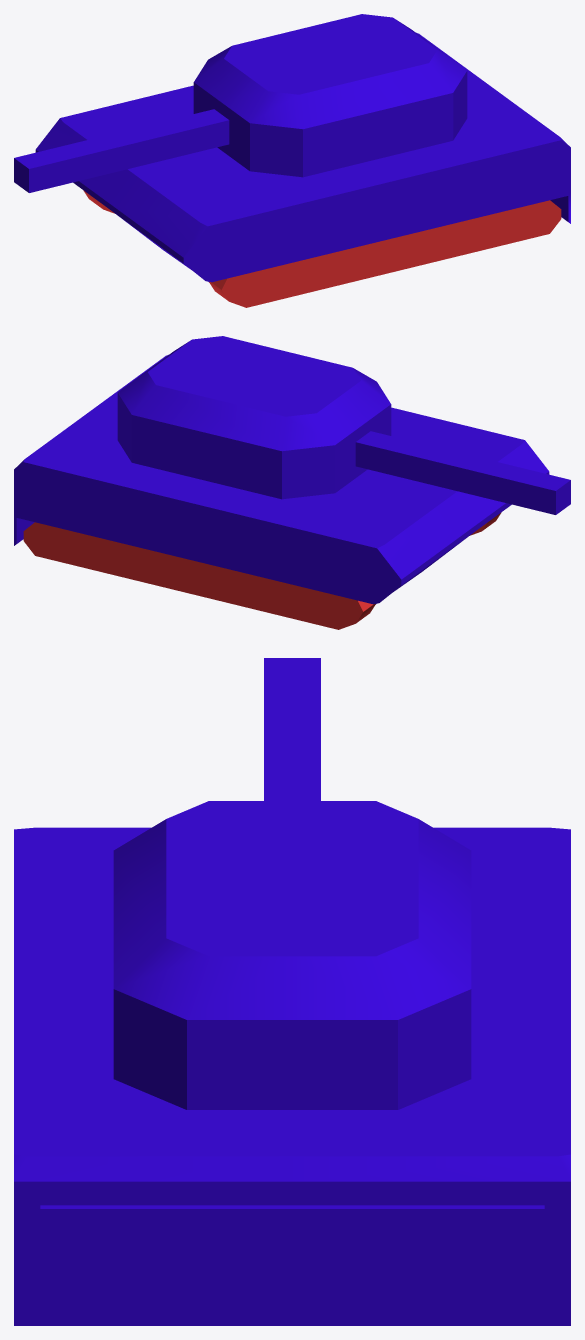
Rendered from Combat_Tank.fbx.
3 renders of one model, top to bottom at view 1: azimuth 30°, elevation 25°; view 2: azimuth 150°, elevation 25°; view 3: azimuth 270°, elevation 25°, orthographic. The views are drawn at different scales.
Parts seen in each view (by area): view 1: Box001; view 2: Box001; view 3: Box001.
Boxes of the visible parts, bbox=[...] form: Box001: bbox=[14, 14, 570, 307]; Box001: bbox=[14, 336, 570, 629]; Box001: bbox=[14, 658, 570, 1325].
Size of the model in its own units: 207 by 68.06 by 111.
